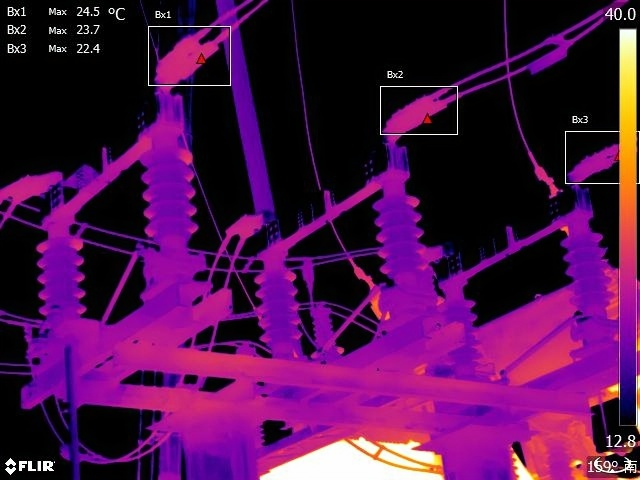post insulator: (139, 144, 197, 254), (365, 194, 435, 281), (32, 231, 91, 321), (564, 229, 615, 322), (251, 265, 303, 347), (440, 290, 481, 372), (310, 300, 336, 351)
switch: (41, 83, 197, 231), (250, 143, 408, 266), (434, 184, 589, 292)
